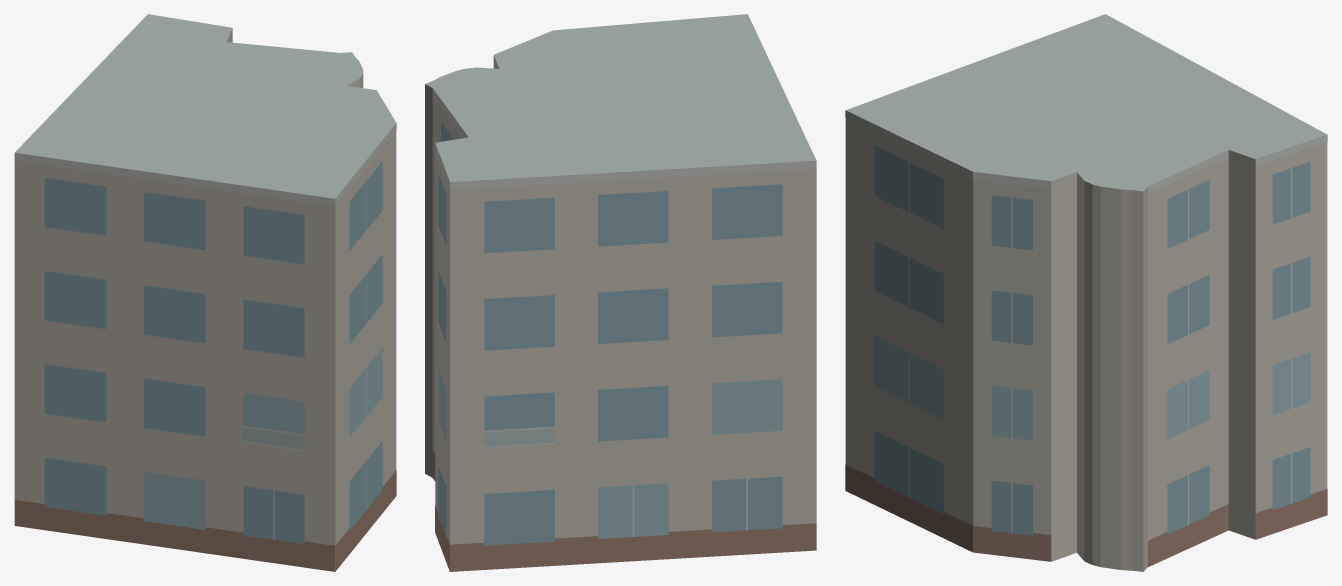
The model's file is survey-upis-32734671.glb.
3 views of the same model, side by side, from view 1: azimuth 30°, elevation 25°; view 2: azimuth 150°, elevation 25°; view 3: azimuth 270°, elevation 25° (orthographic). The views are drawn at different scales.
Parts seen in each view (by area): view 1: survey-upis-32734671.tmp; view 2: survey-upis-32734671.tmp; view 3: survey-upis-32734671.tmp.
Boxes of the visible parts, x1,y1,x2,y2 form: survey-upis-32734671.tmp: (14,14,396,571); survey-upis-32734671.tmp: (425,14,816,571); survey-upis-32734671.tmp: (845,14,1327,571).
Size of the model in its own units: 11.89 by 11.9 by 13.66.
